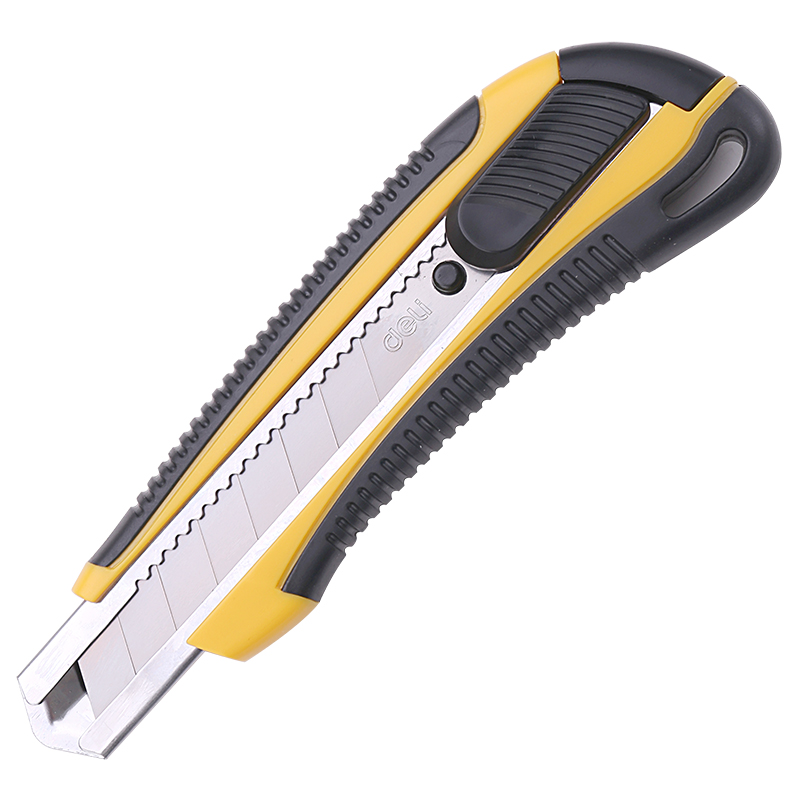cutter: (15, 37, 781, 759)
